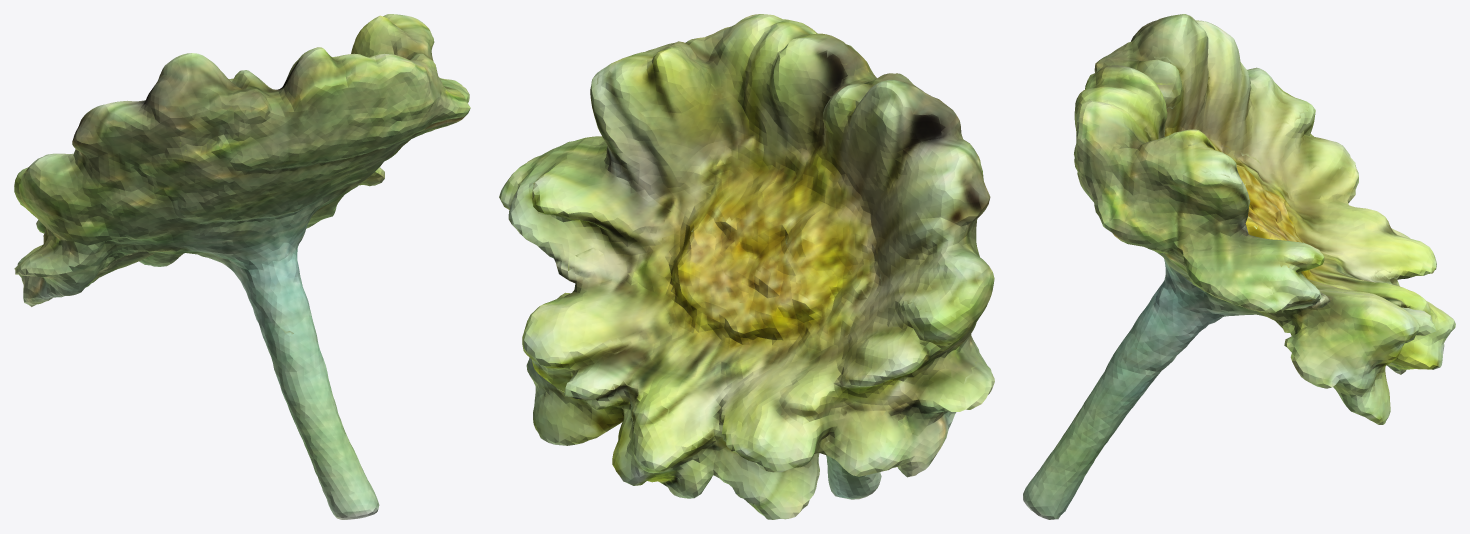
3 renders of one model, left to right at view 1: azimuth 30°, elevation 25°; view 2: azimuth 150°, elevation 25°; view 3: azimuth 270°, elevation 25°, orthographic. The views are drawn at different scales.
Parts seen in each view (by area): view 1: world; view 2: world; view 3: world.
Boxes of the visible parts, x1,y1,x2,y2 form: world: (14,14,470,519); world: (499,14,994,519); world: (1023,14,1455,519).
Size of the model in its own units: 0.9864 by 0.9557 by 0.8349.
1 material, 1 textured.
